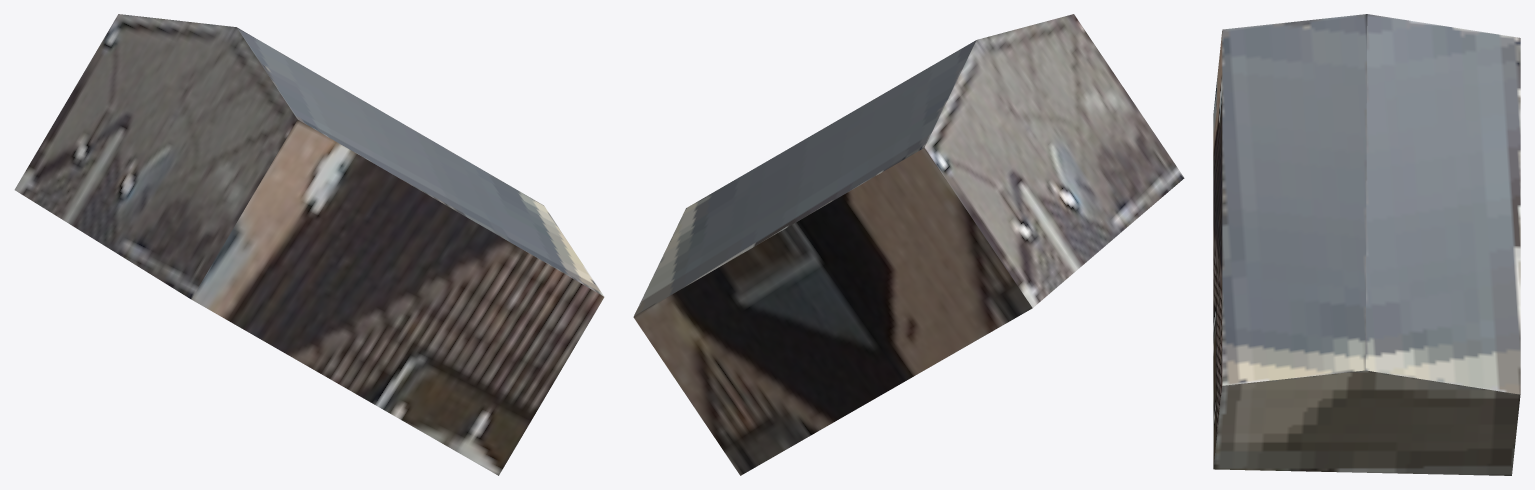
3 renders of one model, left to right at view 1: azimuth 30°, elevation 25°; view 2: azimuth 150°, elevation 25°; view 3: azimuth 270°, elevation 25°, orthographic. The views are drawn at different scales.
Parts seen in each view (by area): view 1: BAG_0599100010060435; view 2: BAG_0599100010060435; view 3: BAG_0599100010060435.
Boxes of the visible parts, left/top/right/bottom form: BAG_0599100010060435: left=14, top=14, right=604, bottom=475; BAG_0599100010060435: left=633, top=14, right=1184, bottom=475; BAG_0599100010060435: left=1213, top=14, right=1520, bottom=475.
Bounding box in the file's own units: 5.78 × 5.44 × 3.88.
2 materials, 2 textured.
